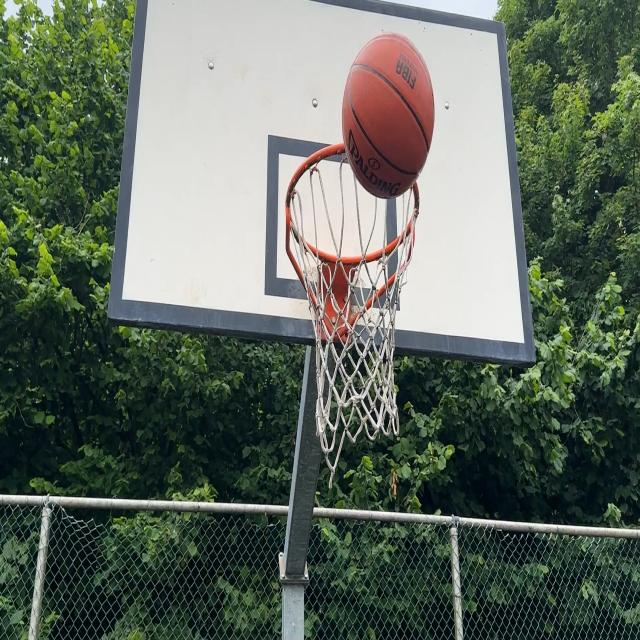Basketball: (340, 32, 435, 198)
